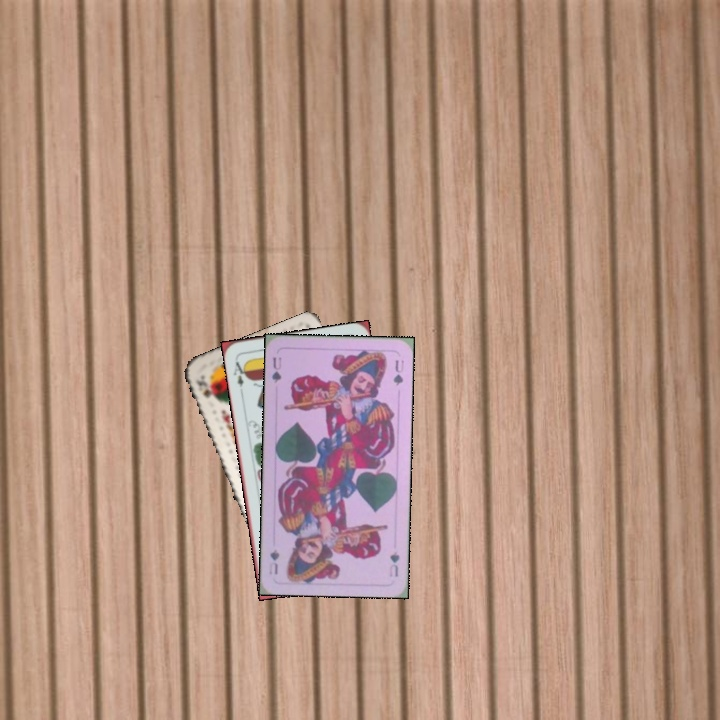EA: (229, 357, 250, 395)
GU: (268, 353, 284, 386), (385, 548, 402, 579)
SK: (191, 371, 219, 403)
